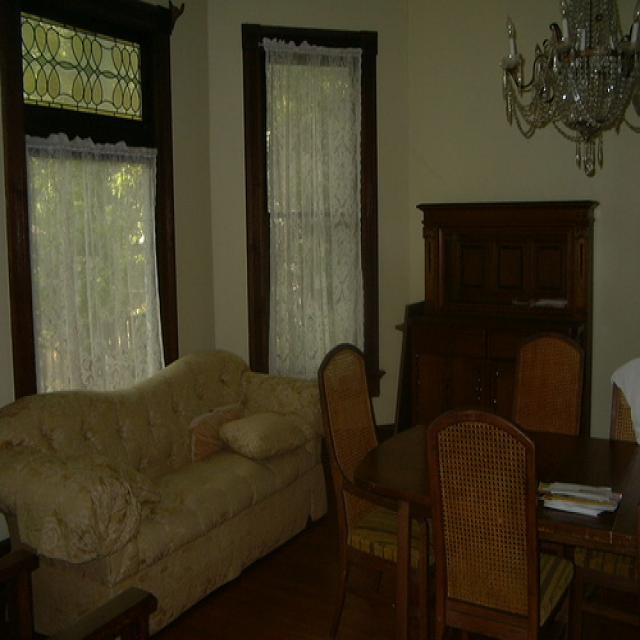Table: (440, 395, 640, 576)
chair: (0, 332, 322, 640), (409, 406, 551, 640), (302, 339, 387, 568), (508, 321, 588, 448), (597, 331, 640, 449)
